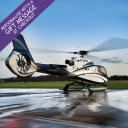helicopter: (7, 32, 112, 94)
